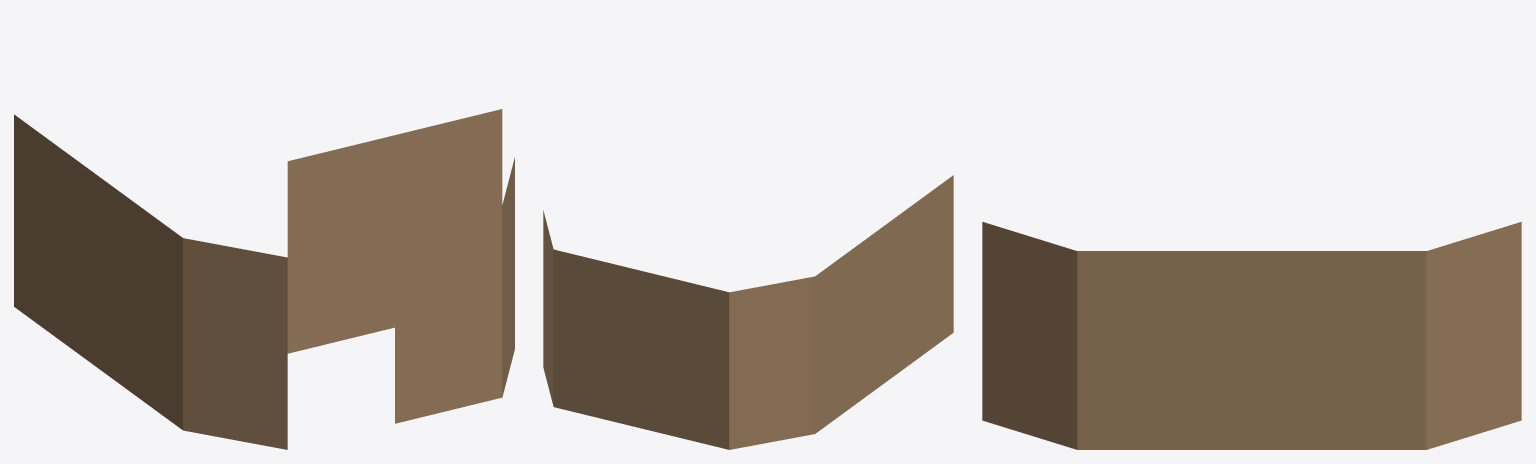
Rendered from 1298-Buildings-shell-pieces-facade-bay-wall-round-an-opening-reveals-sill-head-emitBa.glb.
3 renders of one model, left to right at view 1: azimuth 30°, elevation 25°; view 2: azimuth 150°, elevation 25°; view 3: azimuth 270°, elevation 25°, orthographic. The views are drawn at different scales.
Visible parts, largest first — view 1: emitBay; view 2: emitBay; view 3: emitBay.
Boxes of the visible parts, x1,y1,x2,y2 form: emitBay: (14, 109, 514, 449); emitBay: (543, 175, 953, 449); emitBay: (982, 222, 1521, 449).
Size of the model in its own units: 11 by 9.15 by 15.
